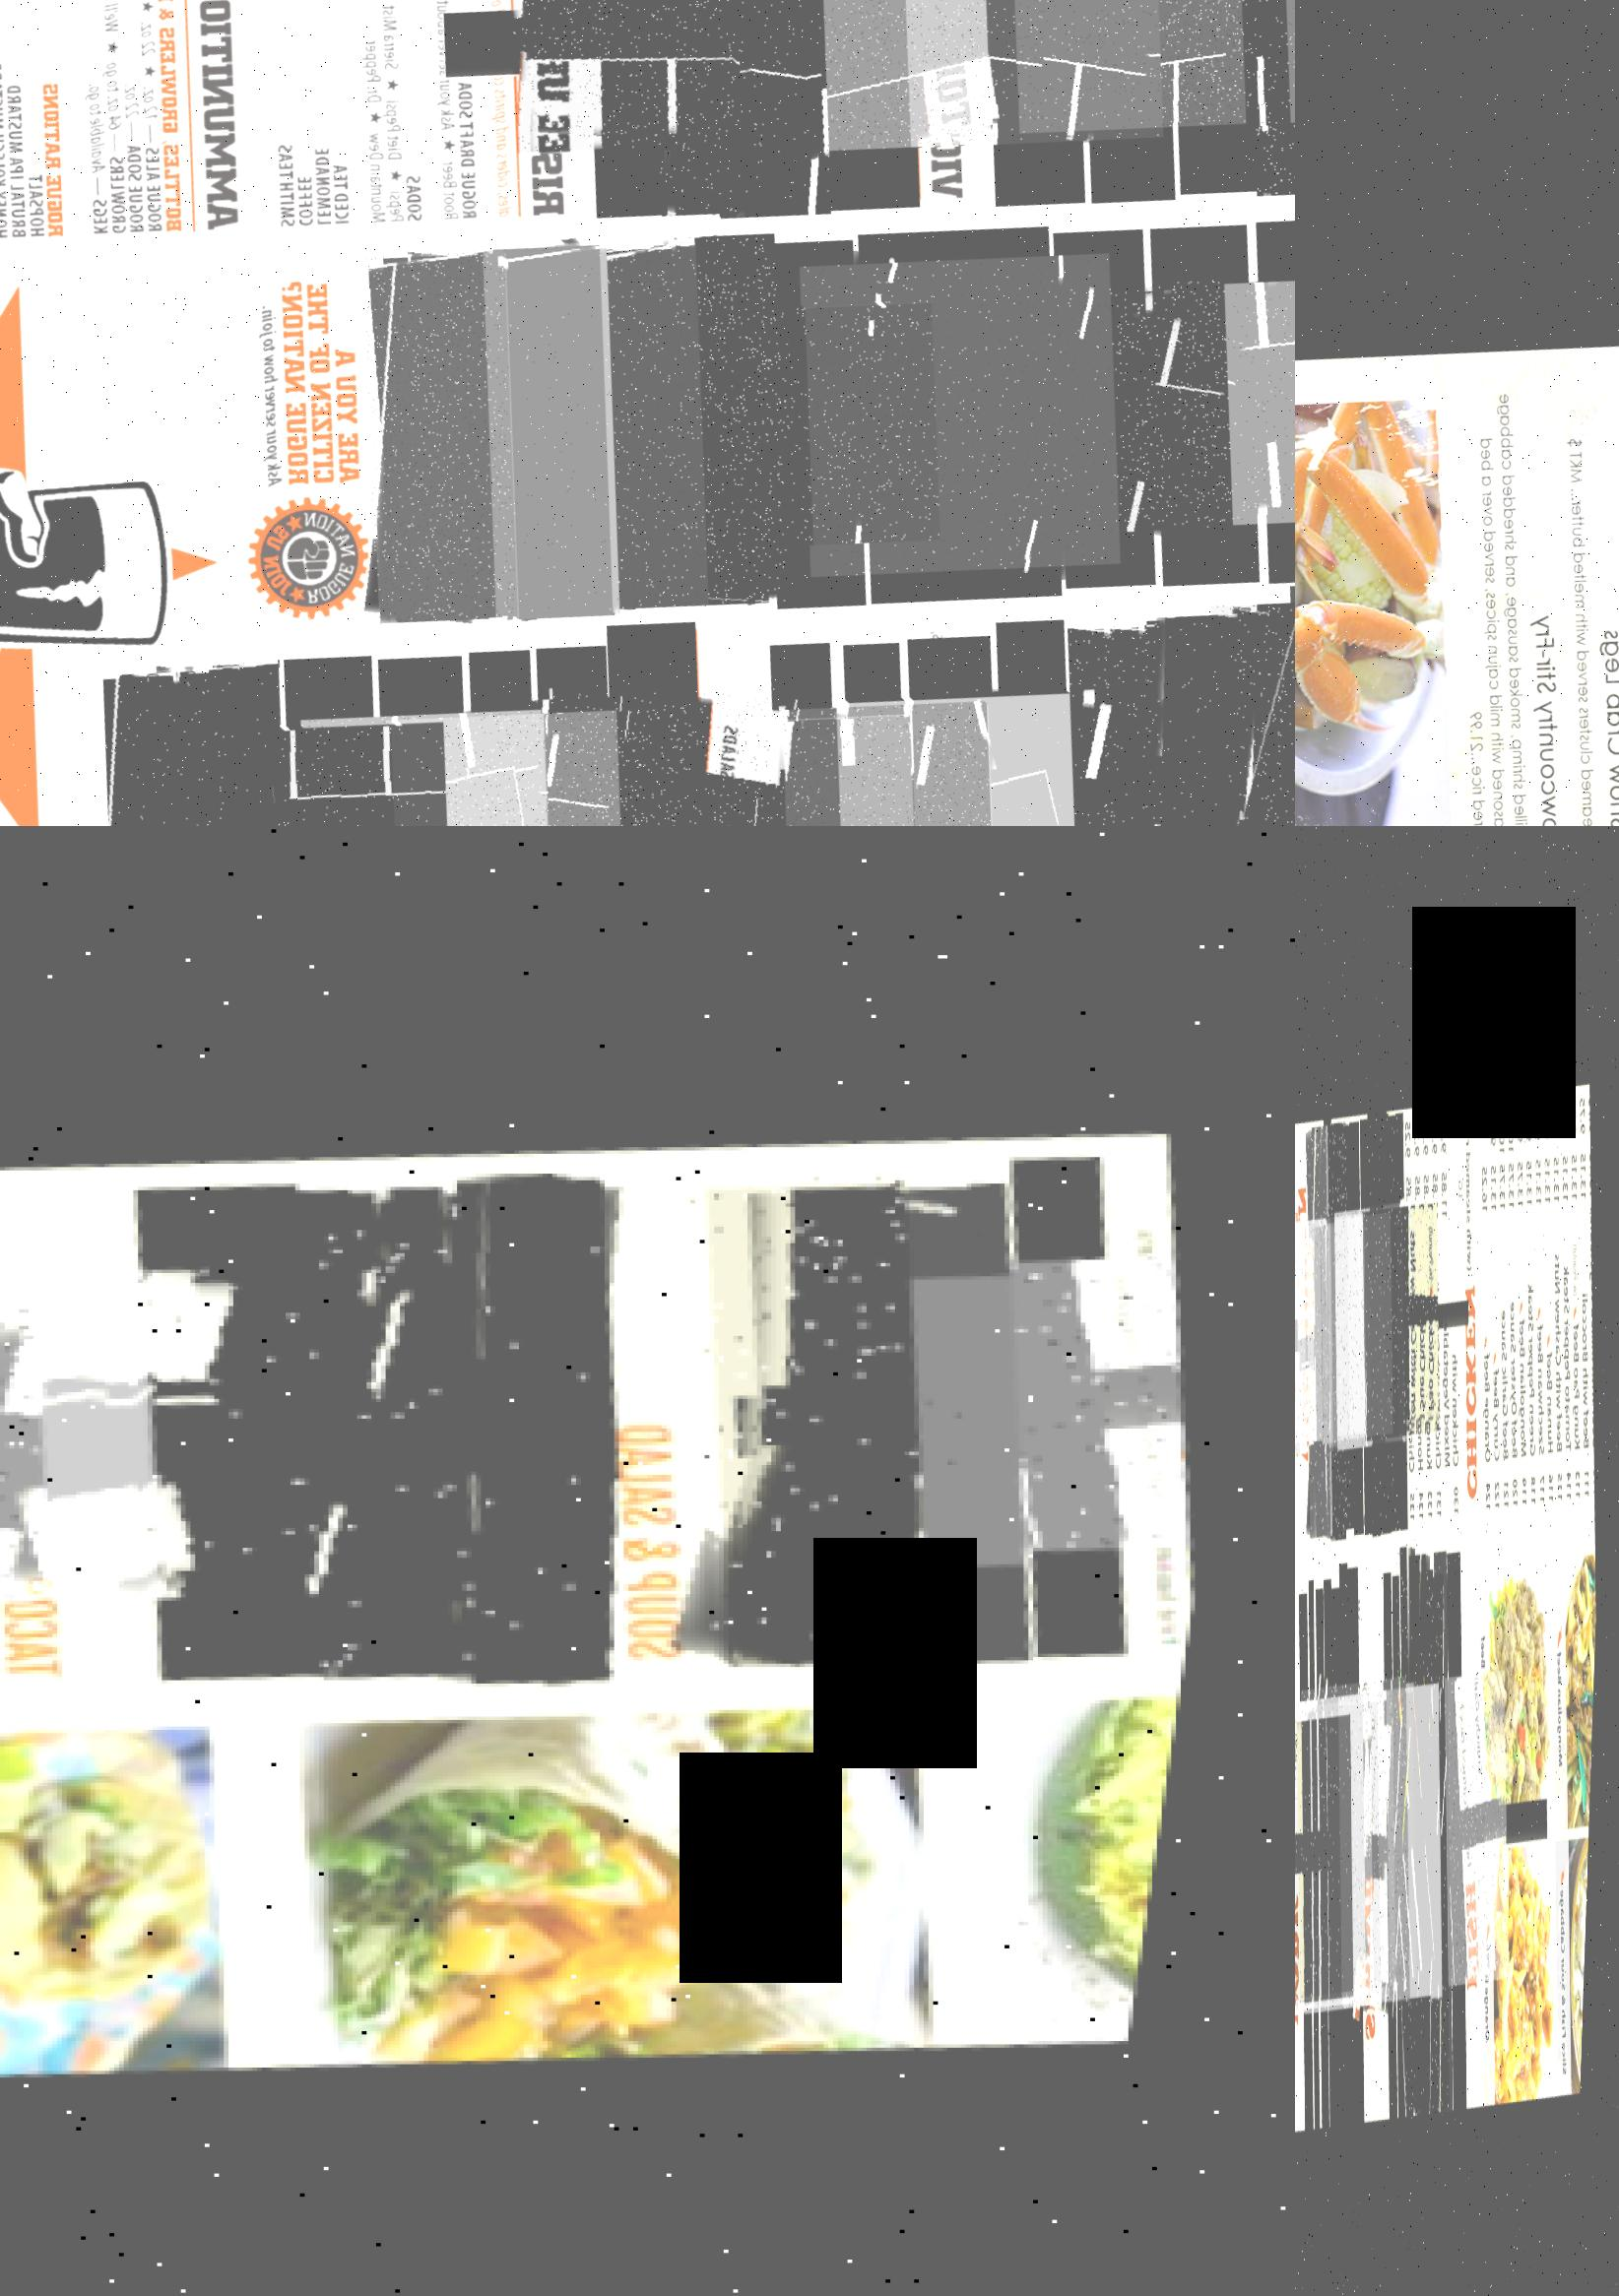Menu-Items: (0, 1229, 529, 1623), (634, 1142, 1002, 1662), (370, 1149, 708, 1683), (242, 1154, 559, 1678), (811, 1135, 1104, 1653), (790, 201, 1167, 578), (827, 1221, 1241, 1559), (972, 231, 1274, 529), (349, 224, 569, 620), (689, 257, 981, 546), (464, 210, 673, 613), (582, 212, 762, 597), (662, 205, 841, 594), (0, 1278, 194, 1613), (1074, 228, 1295, 520), (534, 643, 838, 827), (922, 634, 1207, 827), (838, 643, 1127, 827), (1298, 1645, 1426, 2035), (717, 0, 1022, 152), (767, 657, 1039, 827), (1335, 1650, 1458, 2025), (1402, 1632, 1523, 2005), (308, 674, 599, 827), (1346, 1653, 1465, 2021), (890, 0, 1195, 144), (470, 671, 743, 827), (394, 674, 673, 827), (1128, 574, 1295, 827), (1295, 1660, 1410, 2018), (499, 0, 766, 154), (1295, 1671, 1405, 2033), (704, 671, 960, 827), (682, 0, 876, 205), (1402, 1552, 1472, 2110), (1060, 583, 1220, 827), (224, 687, 501, 827), (100, 644, 300, 827), (1295, 1667, 1395, 2028), (1295, 1667, 1389, 2040), (1393, 1539, 1454, 2110), (995, 0, 1276, 124), (0, 1271, 100, 1611), (626, 0, 788, 203), (1384, 1534, 1440, 2112), (1295, 1667, 1382, 2033), (1174, 240, 1295, 501), (1423, 1538, 1475, 2103), (205, 639, 352, 827), (1321, 1179, 1414, 1466), (1330, 1177, 1423, 1462), (1197, 562, 1295, 827), (1358, 1098, 1416, 1534), (1358, 1175, 1449, 1452), (1295, 1690, 1368, 2025), (1086, 0, 1295, 116), (1314, 1189, 1402, 1457), (1307, 1193, 1393, 1454), (1316, 1114, 1367, 1543), (1297, 1117, 1347, 1541), (1295, 1191, 1375, 1457), (1428, 1096, 1475, 1522), (1372, 1103, 1418, 1527), (1402, 1100, 1442, 1529), (1419, 1095, 1460, 1524), (1540, 1068, 1580, 1497), (1495, 1082, 1535, 1508), (1468, 1086, 1509, 1504), (1505, 1077, 1544, 1508), (1568, 1067, 1607, 1496), (1514, 1075, 1552, 1501), (1488, 1086, 1526, 1508), (1558, 1068, 1596, 1490), (1533, 1072, 1570, 1497), (1393, 1102, 1430, 1522), (1524, 1079, 1561, 1497), (1551, 1075, 1587, 1492), (1479, 1086, 1516, 1501), (1410, 1102, 1447, 1513), (1575, 1072, 1608, 1490), (1295, 1592, 1305, 2135), (1295, 1595, 1305, 2133), (1295, 1210, 1316, 1466), (1295, 1704, 1311, 2018), (1295, 1210, 1309, 1469), (1295, 1208, 1300, 1468)
